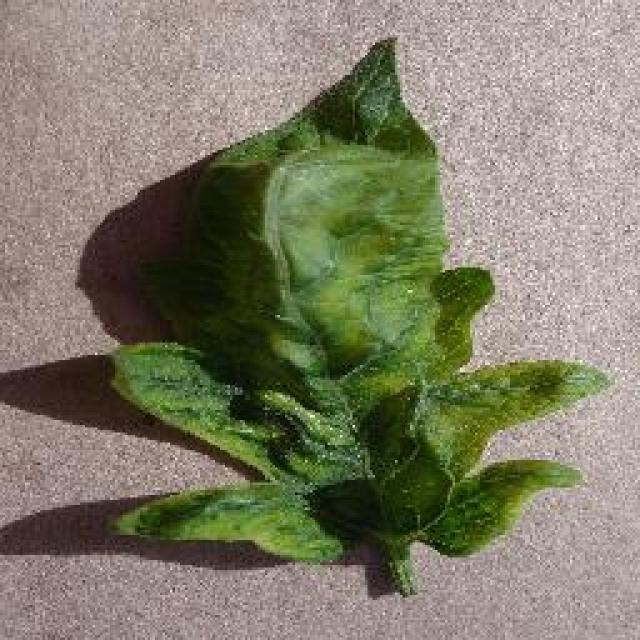Tomato yellow virus leaf: (110, 31, 617, 562)
